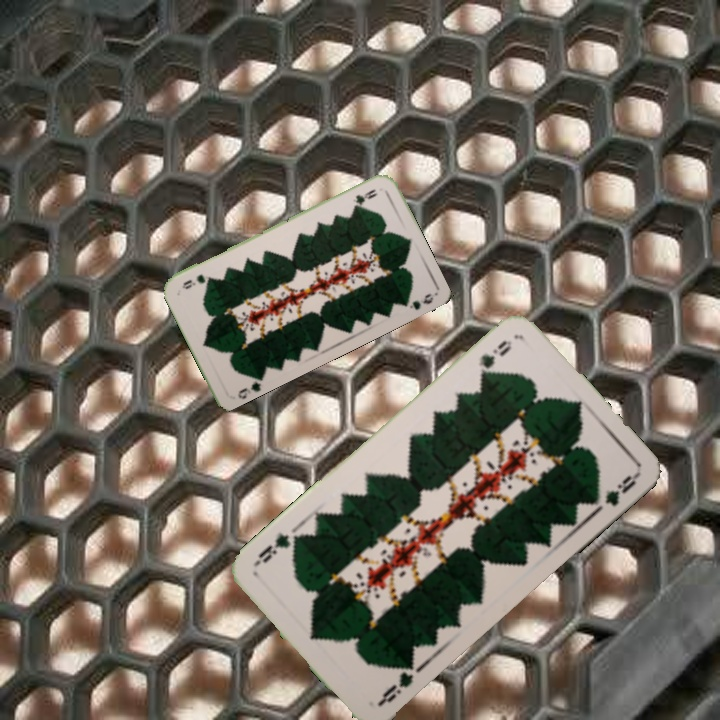G9: (374, 656, 417, 708), (474, 335, 515, 380), (234, 373, 266, 401), (350, 185, 380, 209)
